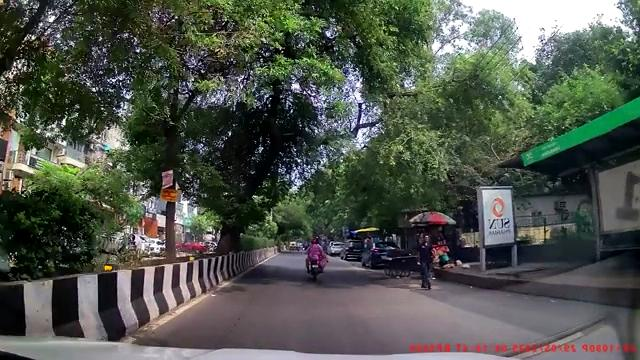passenger_with_helmet: (304, 234, 328, 282)
